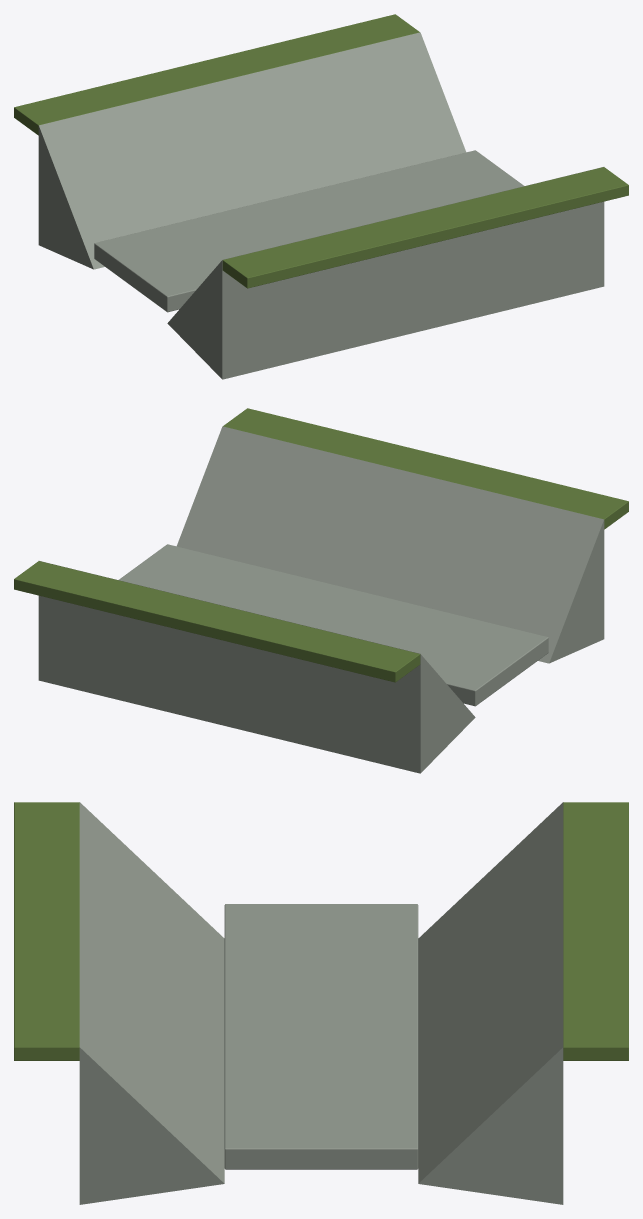
Rendered from source-edit.glb.
3 renders of one model, top to bottom at view 1: azimuth 30°, elevation 25°; view 2: azimuth 150°, elevation 25°; view 3: azimuth 270°, elevation 25°, orthographic. The views are drawn at different scales.
Parts seen in each view (by area): view 1: CANAL_Slope.001, CANAL_Slope, CANAL_Bed, CANAL_Verge.001, CANAL_Verge; view 2: CANAL_Slope, CANAL_Slope.001, CANAL_Bed, CANAL_Verge, CANAL_Verge.001; view 3: CANAL_Bed, CANAL_Slope, CANAL_Slope.001, CANAL_Verge, CANAL_Verge.001.
Part boxes in pixels (x1=…): CANAL_Slope.001: x1=38, y1=32, x2=465, y2=269; CANAL_Slope: x1=167, y1=167, x2=604, y2=379; CANAL_Bed: x1=94, y1=150, x2=524, y2=312; CANAL_Verge.001: x1=222, y1=167, x2=628, y2=288; CANAL_Verge: x1=14, y1=14, x2=419, y2=135; CANAL_Slope: x1=177, y1=426, x2=604, y2=663; CANAL_Slope.001: x1=38, y1=561, x2=475, y2=773; CANAL_Bed: x1=118, y1=544, x2=548, y2=706; CANAL_Verge: x1=14, y1=561, x2=420, y2=682; CANAL_Verge.001: x1=223, y1=408, x2=628, y2=529; CANAL_Bed: x1=224, y1=904, x2=418, y2=1169; CANAL_Slope: x1=79, y1=802, x2=224, y2=1204; CANAL_Slope.001: x1=418, y1=802, x2=563, y2=1204; CANAL_Verge: x1=563, y1=802, x2=628, y2=1060; CANAL_Verge.001: x1=14, y1=802, x2=79, y2=1060.
Size of the model in its own units: 3 by 0.9 by 3.18.
